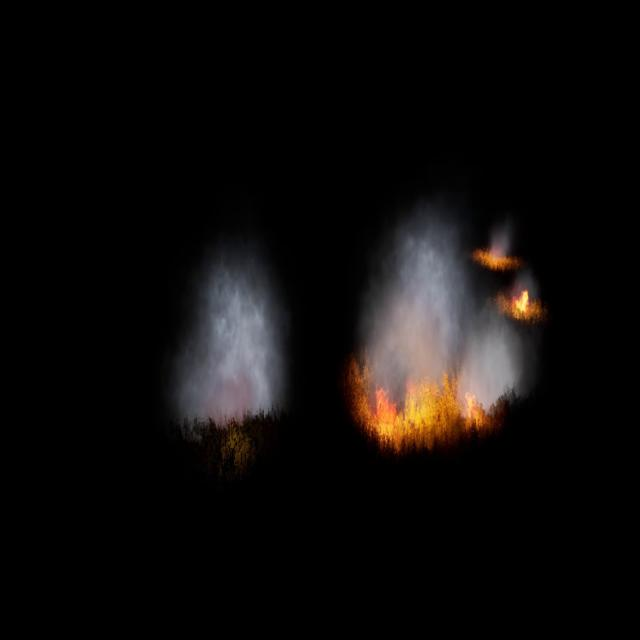fire: (347, 357, 493, 450), (516, 288, 530, 313)
smoke: (355, 198, 535, 420), (175, 249, 293, 426), (490, 219, 515, 259), (520, 277, 541, 303)
